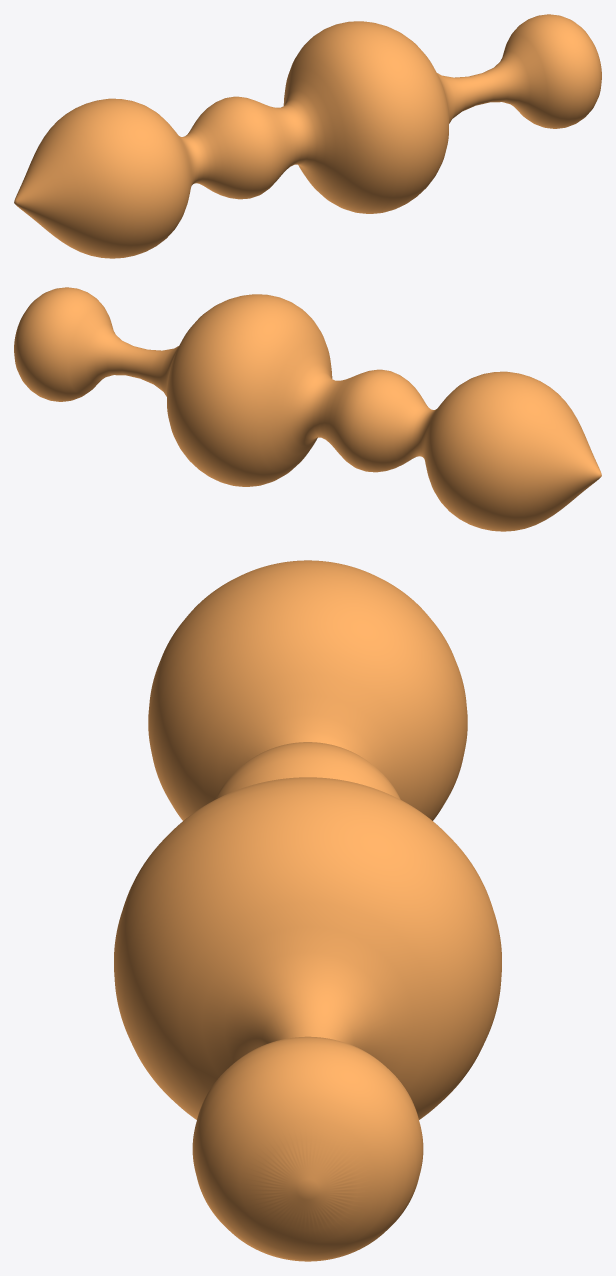
Rendered from amber-glass-spindle.glb.
3 renders of one model, top to bottom at view 1: azimuth 30°, elevation 25°; view 2: azimuth 150°, elevation 25°; view 3: azimuth 270°, elevation 25°, orthographic. The views are drawn at different scales.
Visible parts, largest first — view 1: amber-glass-spindle; view 2: amber-glass-spindle; view 3: amber-glass-spindle.
Part boxes in pixels (<box>): amber-glass-spindle: <box>14,14,601,258</box>; amber-glass-spindle: <box>14,287,601,531</box>; amber-glass-spindle: <box>114,560,501,1261</box>.
Bounding box in the file's own units: 2 × 0.5792 × 0.5792.
